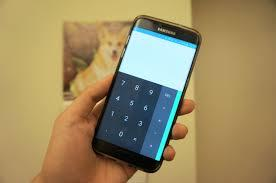Calculator: (97, 69, 185, 163)
